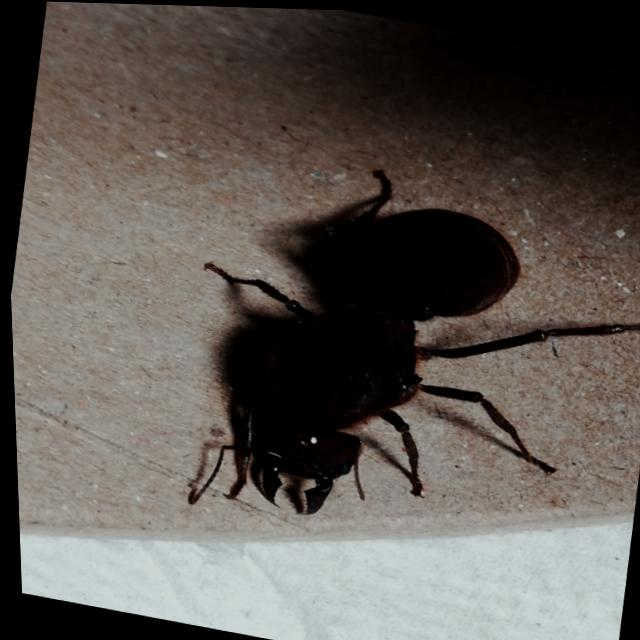Alive-Female-Dealate: (159, 136, 640, 585)
